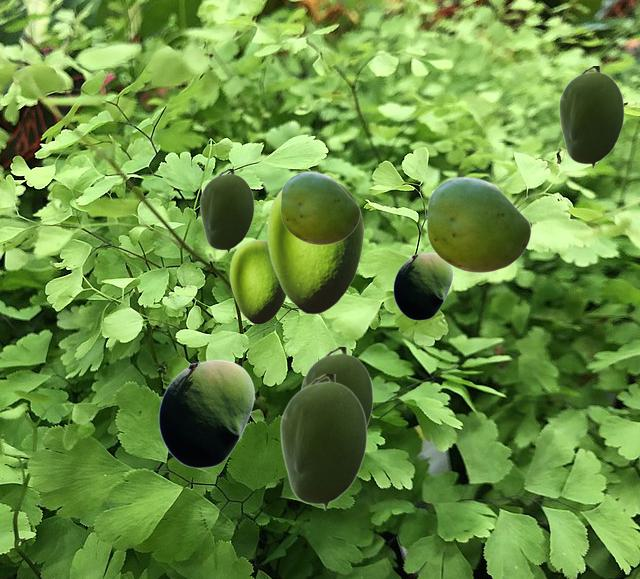green_mango: (266, 178, 363, 313), (279, 374, 366, 510), (158, 359, 254, 467), (426, 176, 530, 272), (558, 66, 623, 168), (300, 347, 372, 428), (280, 171, 359, 244), (229, 239, 286, 323), (199, 169, 253, 253), (393, 252, 452, 319)
